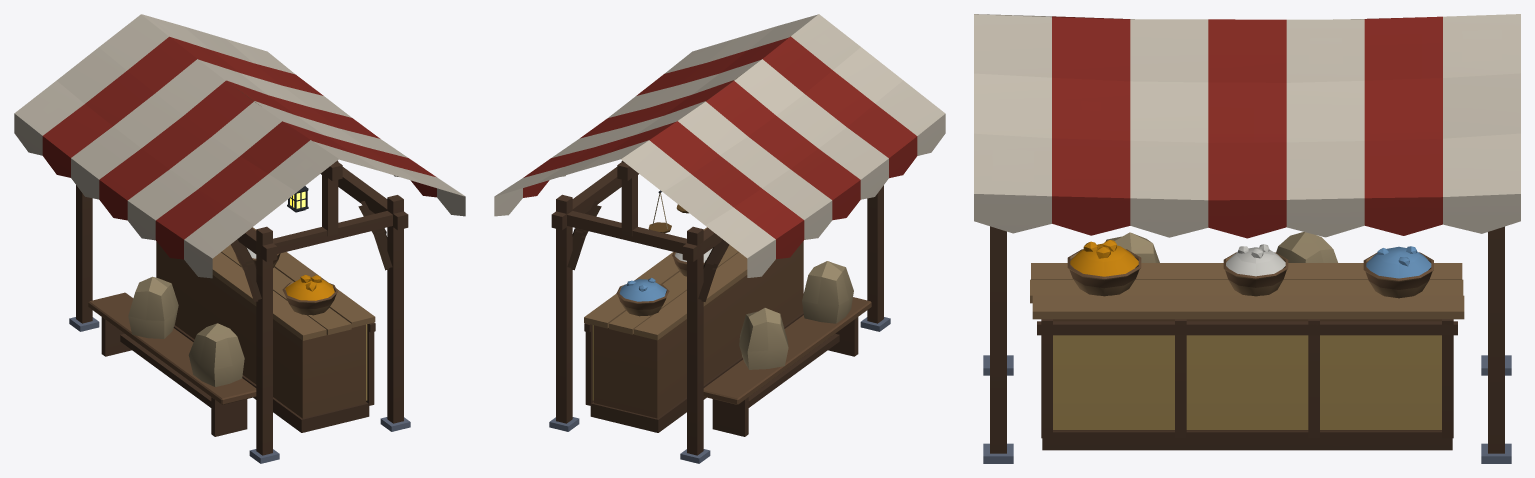
The model's file is market_stand_02_b.glb.
The picture shows the model from 3 angles, left to right: view 1: azimuth 30°, elevation 25°; view 2: azimuth 150°, elevation 25°; view 3: azimuth 270°, elevation 25°; orthographic projection. The views are drawn at different scales.
Visible parts, largest first — view 1: isl_market_stand_02_b; view 2: isl_market_stand_02_b; view 3: isl_market_stand_02_b.
Boxes of the visible parts, x1=… form: isl_market_stand_02_b: x1=14, y1=14, x2=465, y2=463; isl_market_stand_02_b: x1=494, y1=14, x2=945, y2=463; isl_market_stand_02_b: x1=974, y1=14, x2=1520, y2=463.
Size of the model in its own units: 2.4 by 2.62 by 3.25.
